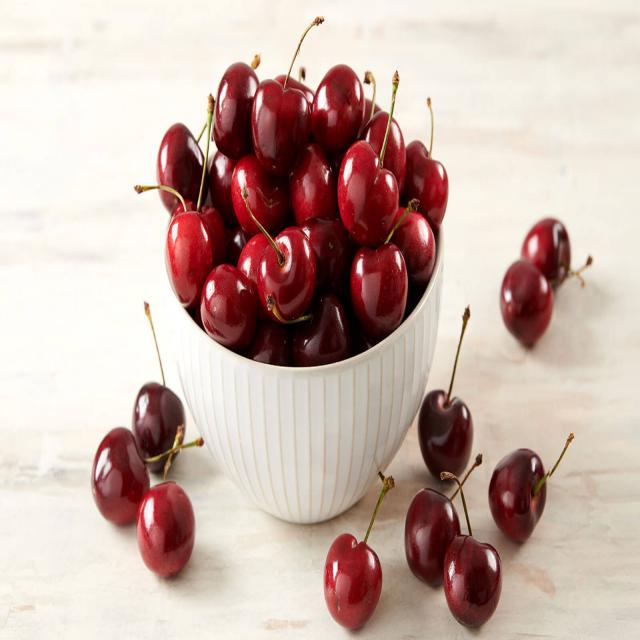cherry: (88, 420, 205, 589), (403, 452, 502, 630), (500, 212, 602, 348), (157, 90, 214, 301), (342, 67, 406, 247), (349, 205, 438, 328), (417, 298, 476, 479), (489, 428, 577, 548), (240, 182, 316, 318), (328, 466, 388, 632), (250, 8, 307, 176), (128, 295, 184, 465), (291, 145, 348, 293), (262, 295, 346, 380), (404, 94, 450, 227), (195, 259, 258, 355), (313, 67, 366, 151), (215, 54, 254, 161)
